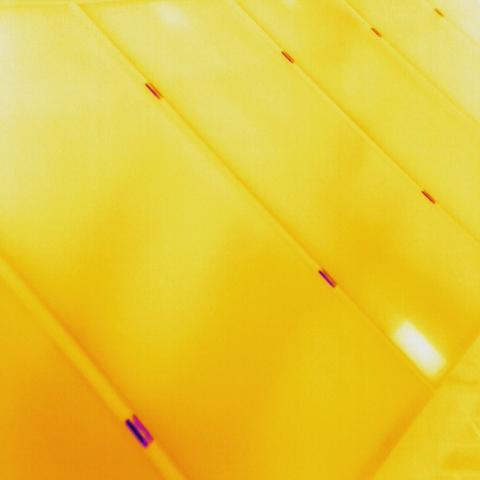fault: (389, 317, 451, 382)
